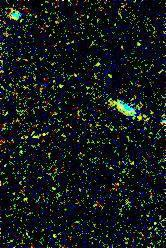star: (123, 102, 153, 132)
